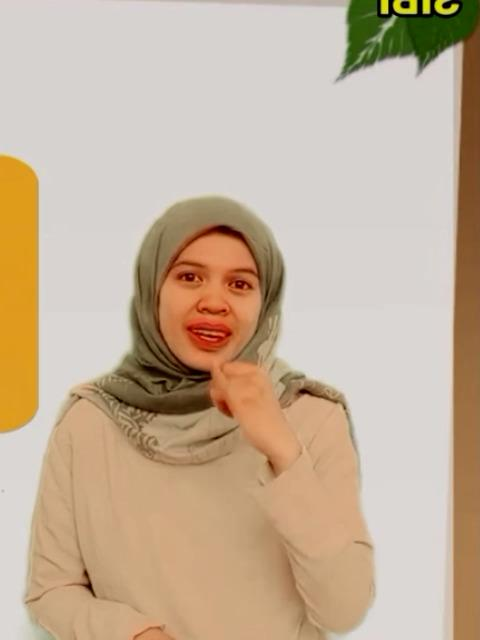J: (208, 352, 282, 452)
